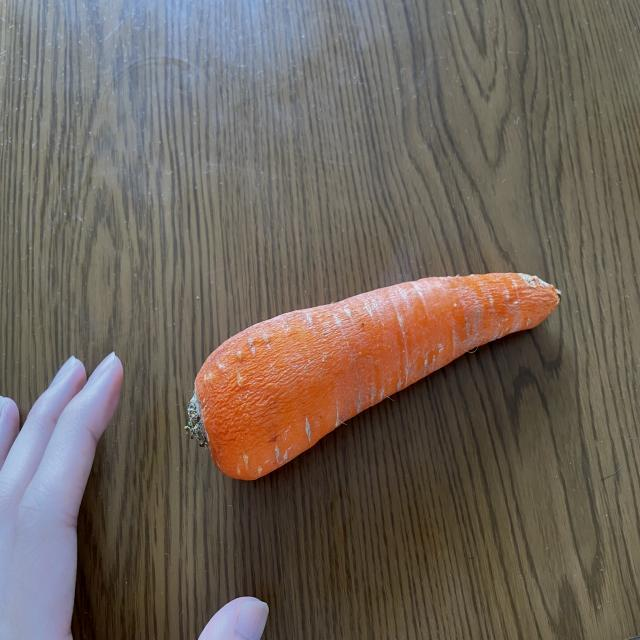carrot: (185, 266, 563, 482)
